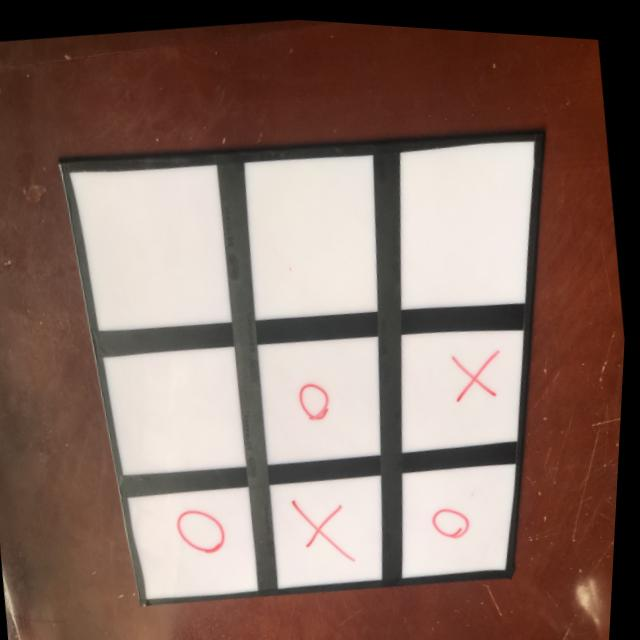null: (71, 155, 236, 337), (395, 132, 550, 305), (247, 148, 387, 318), (108, 343, 252, 476)
o: (178, 496, 236, 560), (430, 492, 486, 541), (296, 370, 344, 425)
table: (62, 123, 586, 609)
x: (293, 485, 360, 563), (449, 336, 511, 408)
